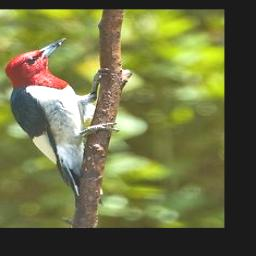Woodpecker: (3, 38, 118, 203)
